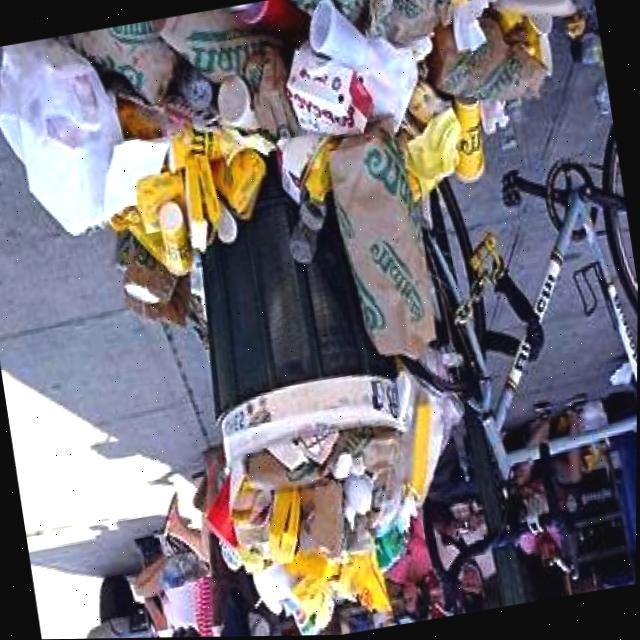Garbage: (209, 392, 461, 636), (249, 618, 275, 637)
Plastic: (254, 564, 292, 616), (344, 476, 374, 516)
